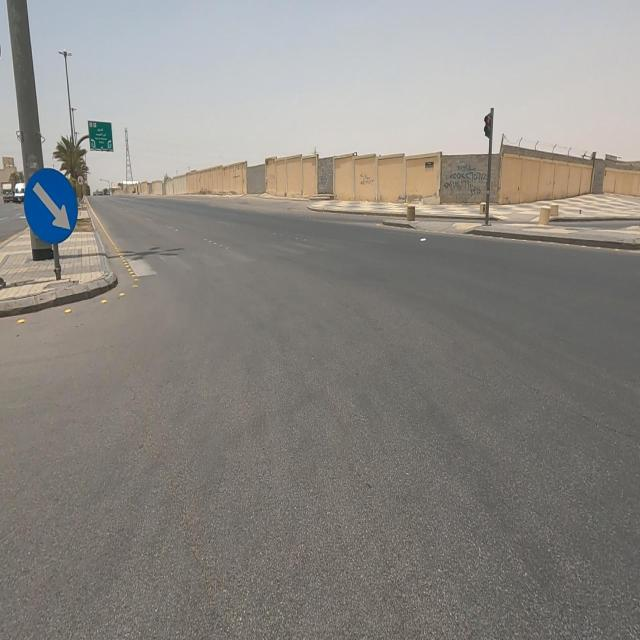Graffiti: (444, 164, 488, 199), (361, 173, 375, 189)
